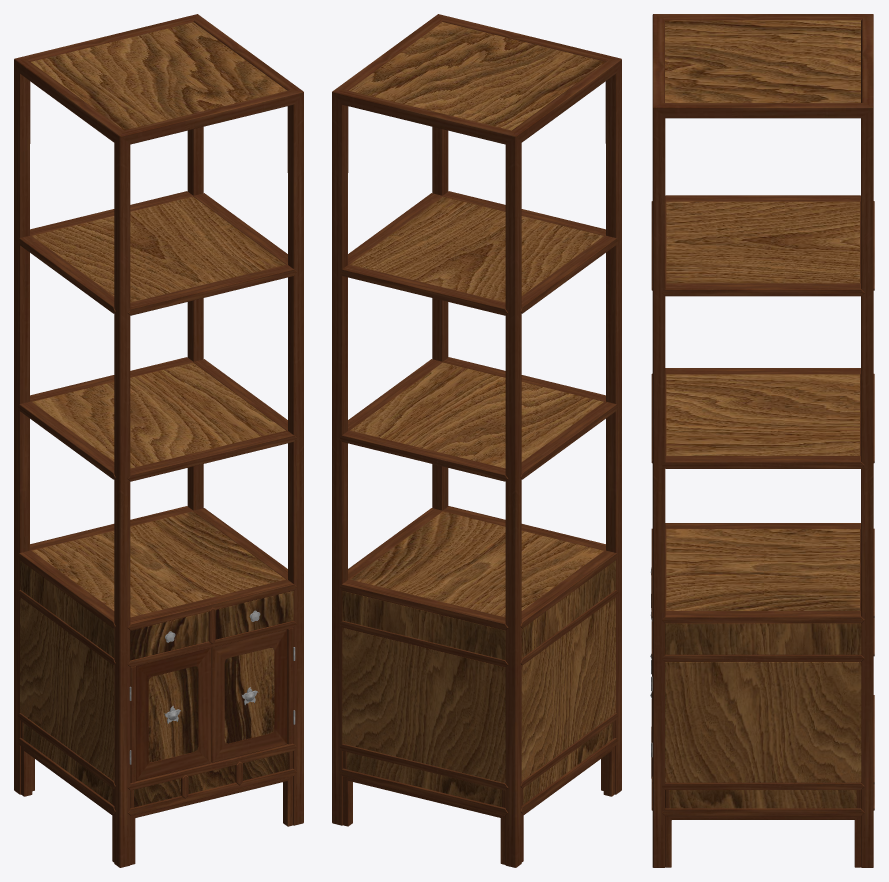
Rendered from gb_shelf.glb.
The picture shows the model from 3 angles, left to right: view 1: azimuth 30°, elevation 25°; view 2: azimuth 150°, elevation 25°; view 3: azimuth 270°, elevation 25°; orthographic projection. The views are drawn at different scales.
Parts seen in each view (by area): view 1: SM_GNJ_Bookshelf; view 2: SM_GNJ_Bookshelf; view 3: SM_GNJ_Bookshelf.
Boxes of the visible parts, box(x1,y1,x2,y2) form: SM_GNJ_Bookshelf: box(14, 14, 303, 867); SM_GNJ_Bookshelf: box(332, 14, 621, 867); SM_GNJ_Bookshelf: box(650, 14, 874, 867).
Size of the model in its own units: 0.5289 by 1.99 by 0.5323.
Materials: 1 (1 with a texture image).
